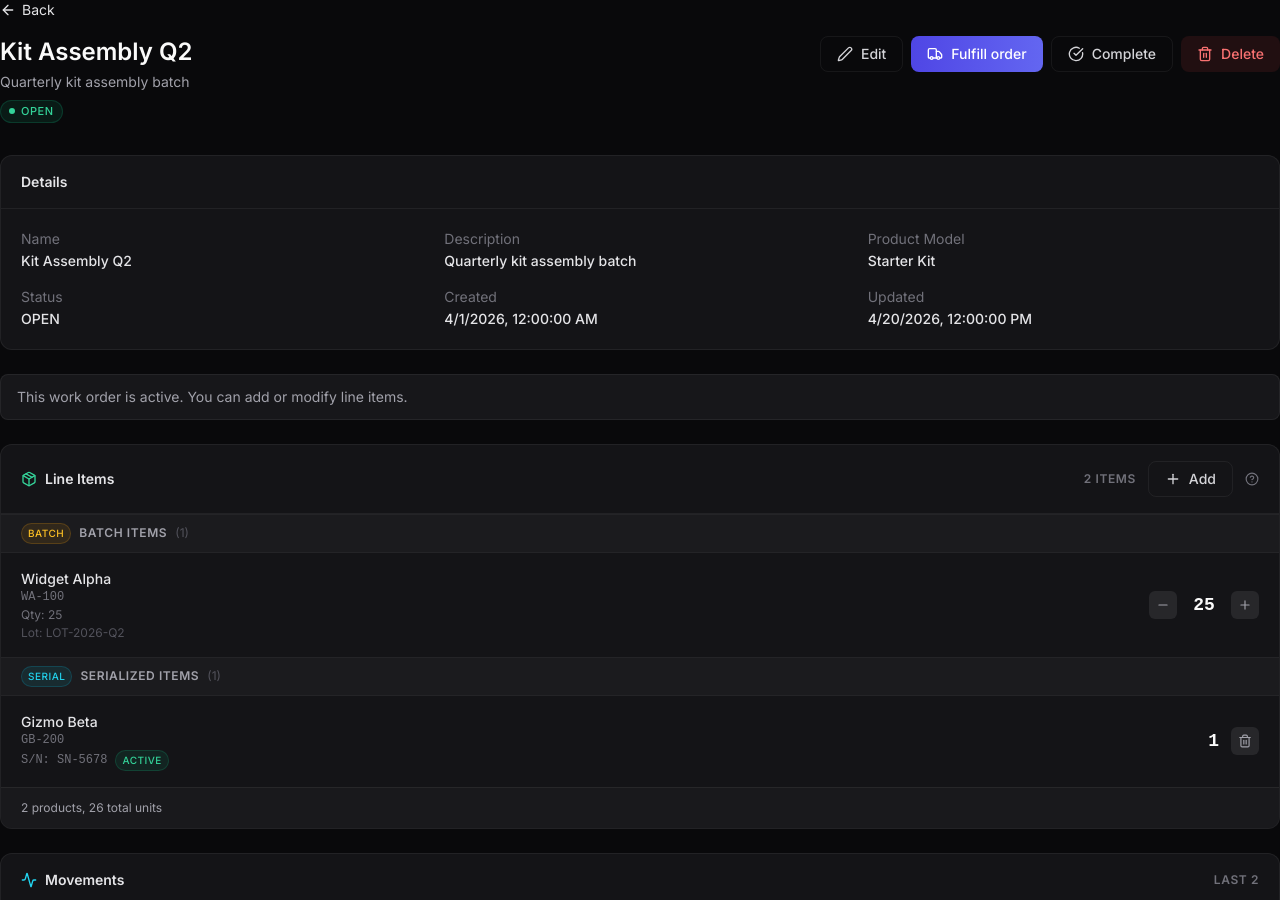
Test: WorkOrderShow › shows confirm dialog on Complete click
This screenshot has width=1280, height=900.
Click the button "Complete". click: (1112, 54)
box: 1051,36 -> 1173,72
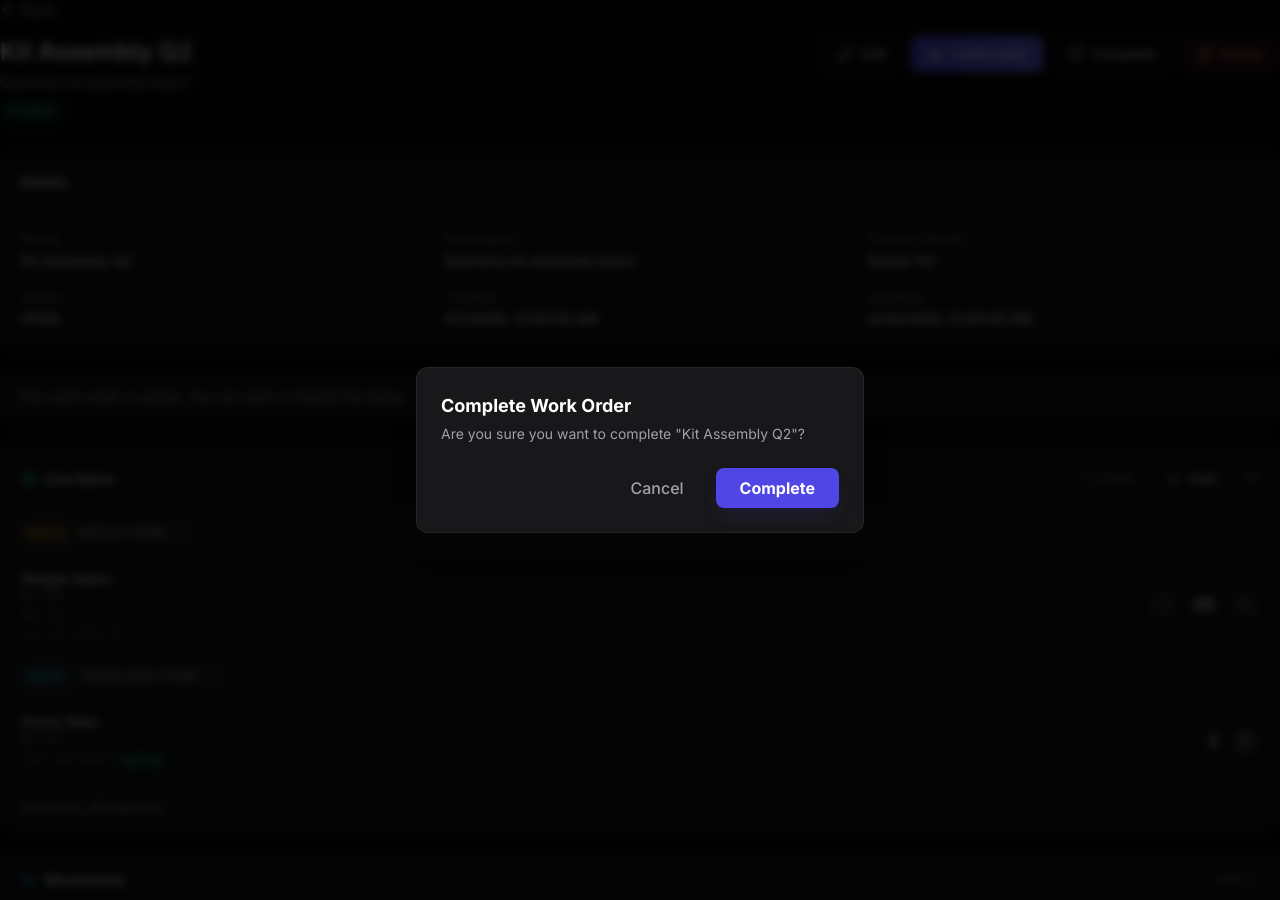
Check: the heading "Complete Work Order" is shown, box 441,395 -> 631,416
Check: the element with test id "confirm-dialog" is shown, box 416,367 -> 864,533
